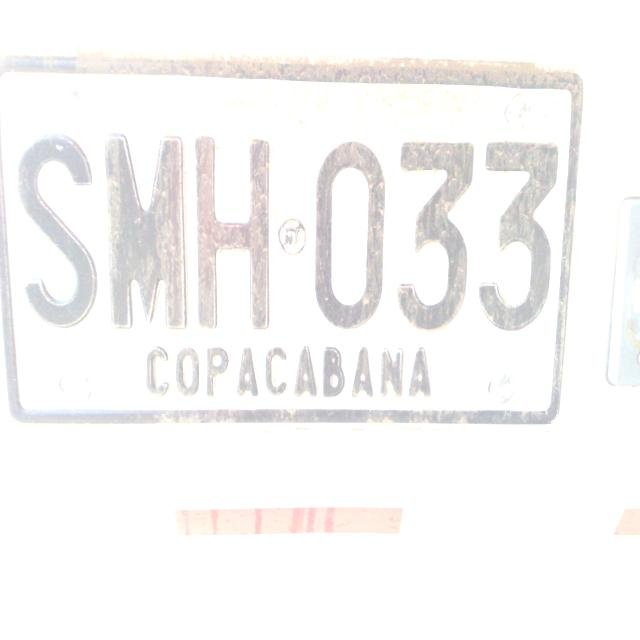placa: (1, 48, 585, 440)
